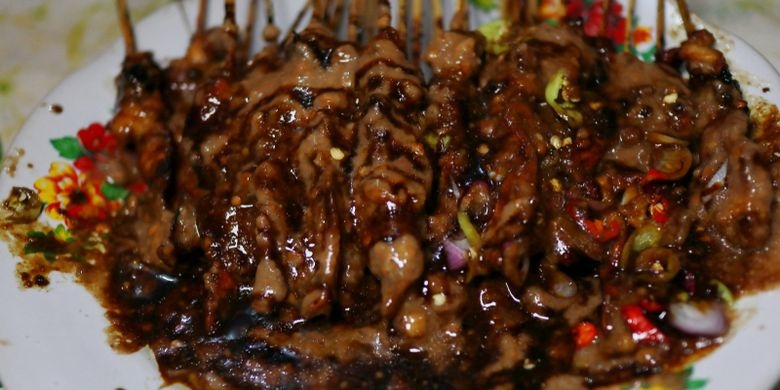sate_madura: (113, 1, 774, 335)
